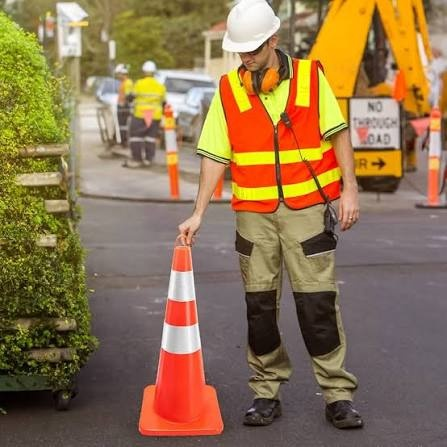hardhat: (219, 7, 280, 55), (140, 61, 162, 72), (114, 65, 129, 76)
person: (165, 6, 378, 431), (129, 60, 170, 175), (110, 63, 130, 158)
safety_cone: (124, 235, 230, 432)
safety_vest: (188, 58, 361, 224), (132, 75, 165, 125)
